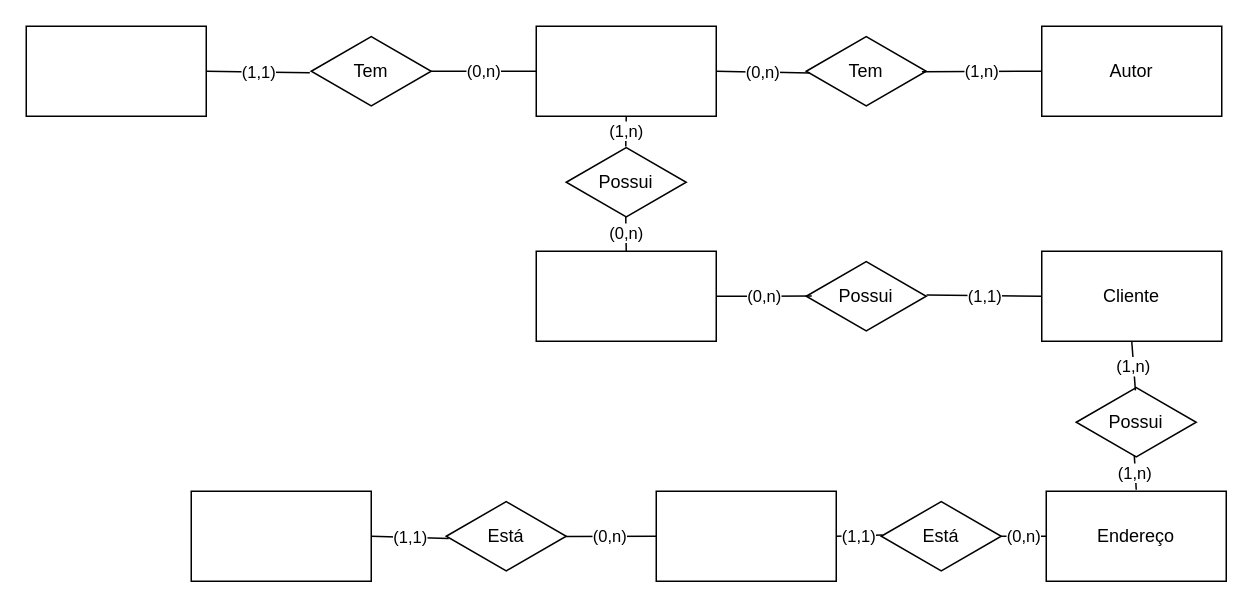
Some shapes in this 1253 by 608 pixel diagram are drawn without their labels. The shapes that lost their labels are listed below. From the top down, each one's centre as x and y in pixels, then its label:
point (115, 70): Categoria
point (625, 70): Livro
point (625, 295): Venda
point (280, 535): Estado
point (745, 535): Cidade
